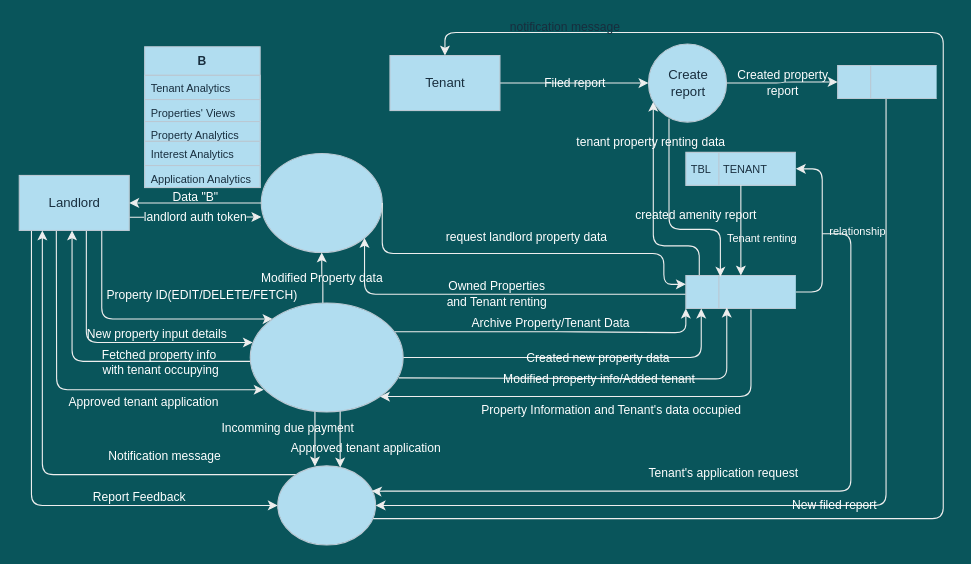
This 971x564 diagram has some shape labels left out. Each missing label, with the centre of its shape:
Calculate Admin Analytics: (321,202)
CRUD Functionality: (326,357)
Notify: (326,505)
TBL PROPERTY: (740,291)
TBL REPORT: (887,81)
